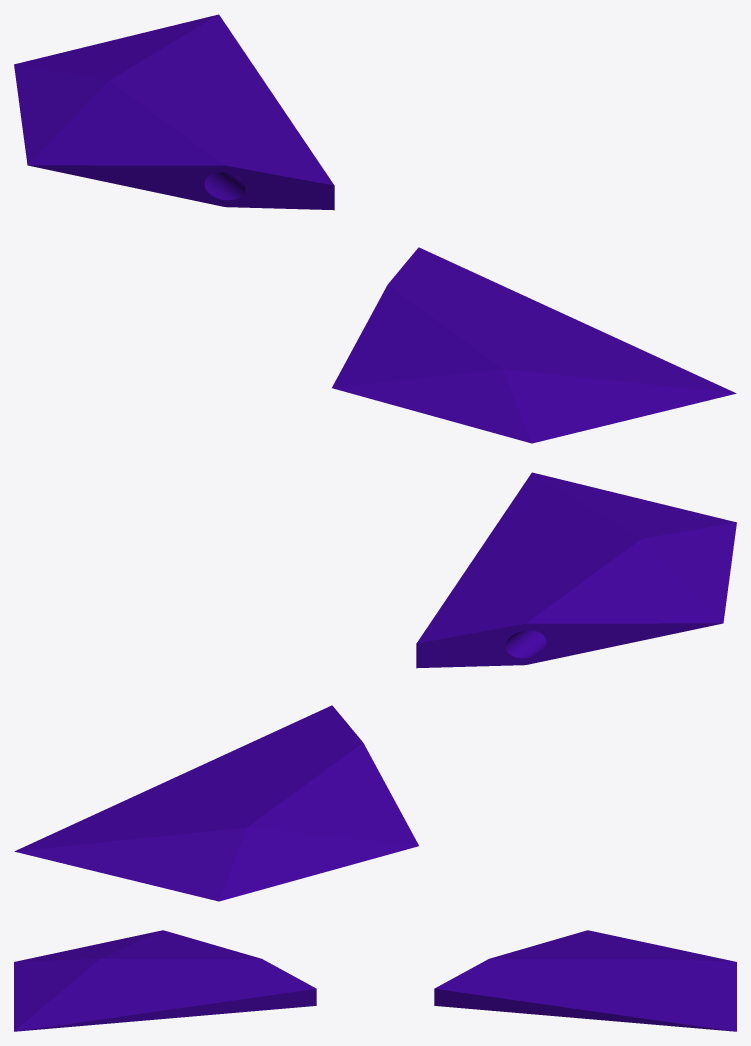
Rendered from fin_pair_h.000.dae.
3 renders of one model, top to bottom at view 1: azimuth 30°, elevation 25°; view 2: azimuth 150°, elevation 25°; view 3: azimuth 270°, elevation 25°, orthographic. The views are drawn at different scales.
Parts seen in each view (by area): view 1: fin_pair_h.000; view 2: fin_pair_h.000; view 3: fin_pair_h.000.
Part boxes in pixels (box(x1,y1,x2,y2)): fin_pair_h.000: box(14, 14, 736, 443); fin_pair_h.000: box(14, 472, 736, 901); fin_pair_h.000: box(14, 930, 736, 1031).
Bounding box in the file's own units: 0.233 × 0.7006 × 0.031.
